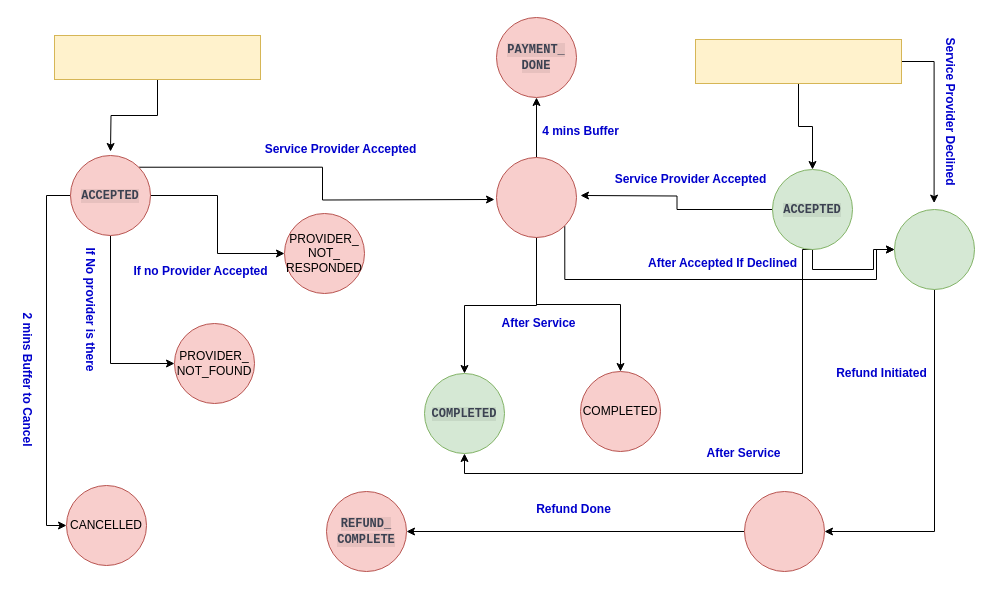
Some shapes in this 992 by 589 pixel diagram are drawn without their labels. Here are the shapes that lost their labels. From the top down, the box of each, then its label:
(54, 34, 260, 80): Customer Initiated a Booking
(694, 38, 902, 84): Service Provider Is available for Emergency
(496, 156, 576, 238): YET_TO_ BE_SERVED
(894, 208, 974, 290): DECLINED
(744, 490, 824, 572): REFUND_ INIT
